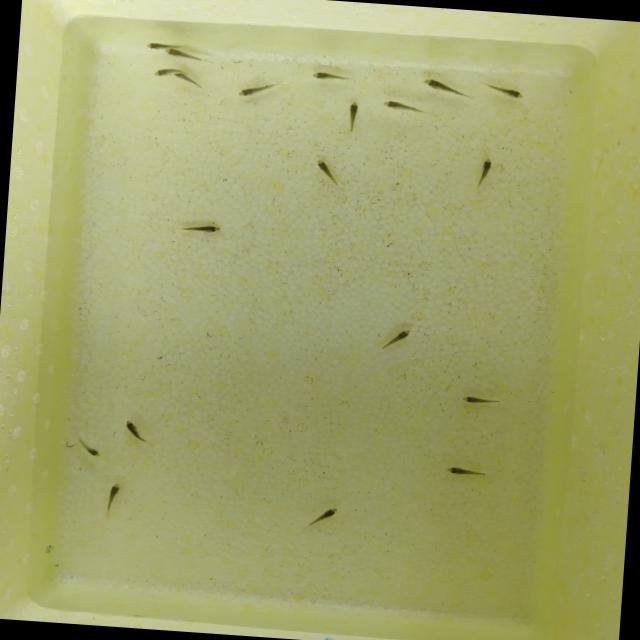fingerling: (232, 78, 282, 101), (98, 480, 128, 516), (415, 77, 466, 98), (374, 324, 412, 352), (307, 156, 343, 184), (308, 502, 342, 530), (375, 96, 424, 114), (176, 220, 225, 238), (486, 80, 530, 100), (342, 98, 367, 128), (444, 463, 486, 480), (456, 391, 502, 406), (307, 68, 350, 84), (472, 155, 496, 183), (123, 416, 145, 446), (79, 440, 103, 462), (141, 66, 176, 78), (138, 39, 172, 50), (175, 74, 200, 88), (162, 47, 186, 59)
